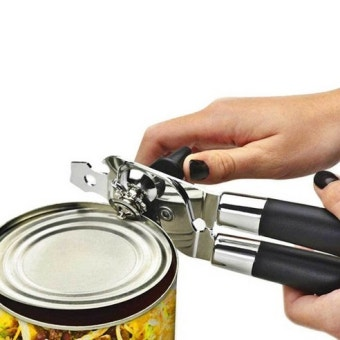paper: (0, 203, 179, 340)
